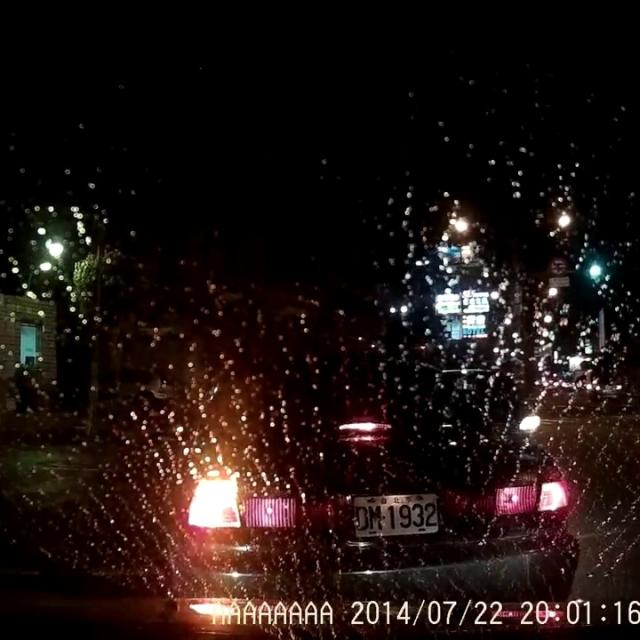Car: (165, 347, 578, 607)
